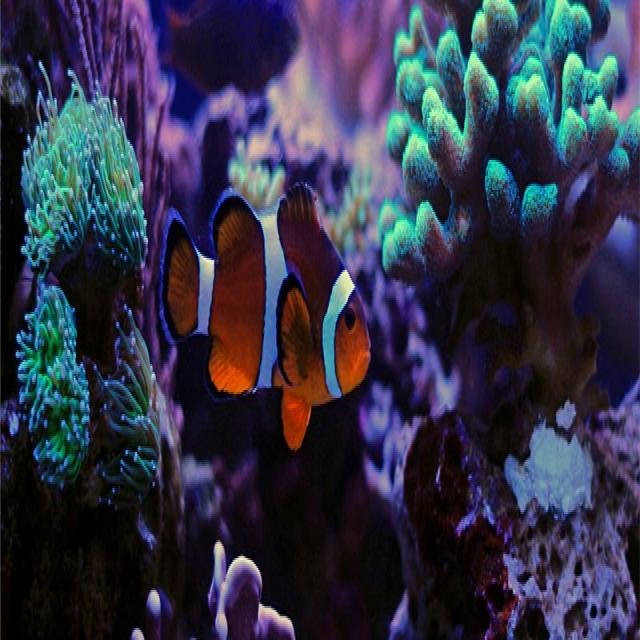ClownFish: (163, 178, 372, 442)
